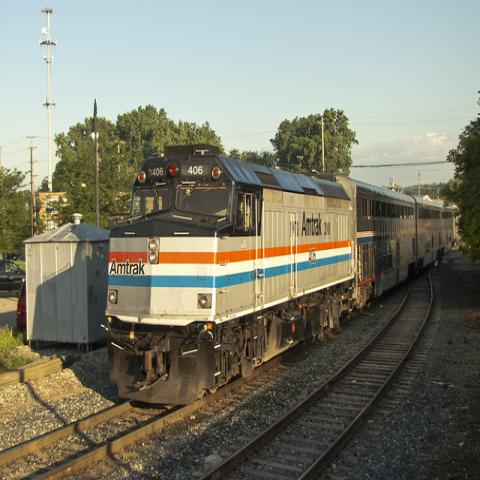car: (0, 260, 26, 293), (15, 278, 27, 326)
